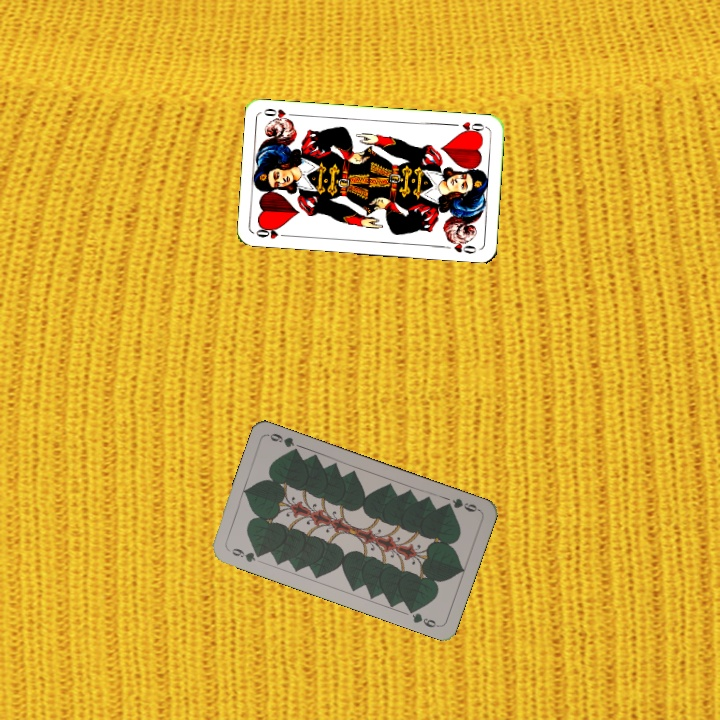G9: (441, 494, 482, 515), (224, 544, 265, 565)
HO: (448, 117, 488, 137), (252, 223, 292, 241)
